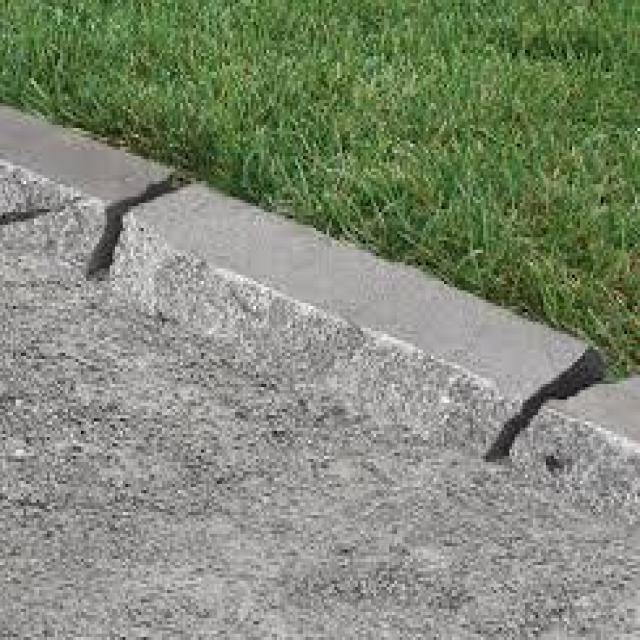curb: (2, 110, 234, 330), (240, 208, 467, 426), (481, 295, 640, 518)
